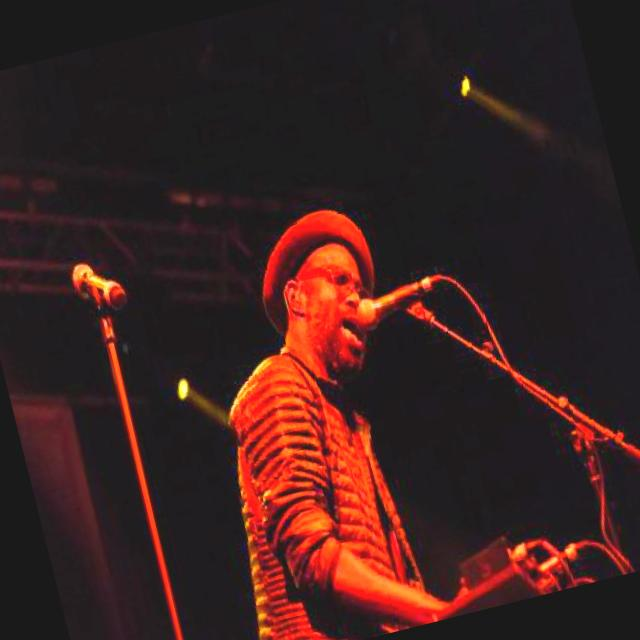Person: (161, 163, 538, 640)
